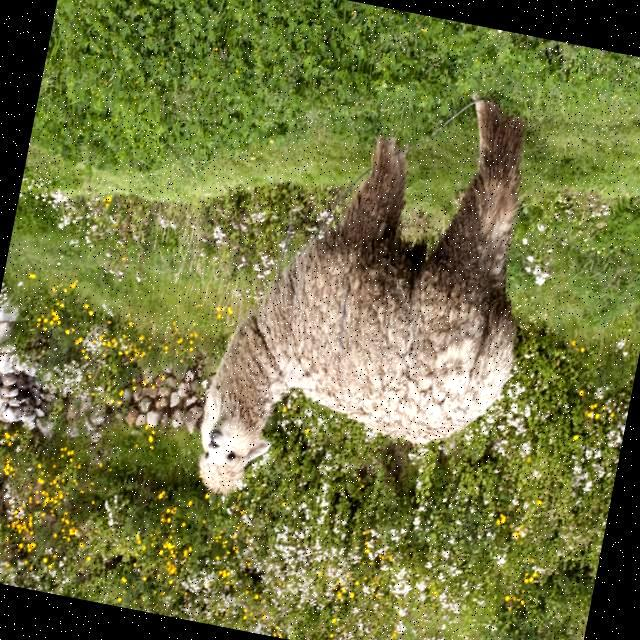sheep: (197, 99, 523, 497)
